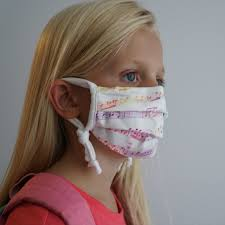with-mask: (53, 11, 172, 163)
